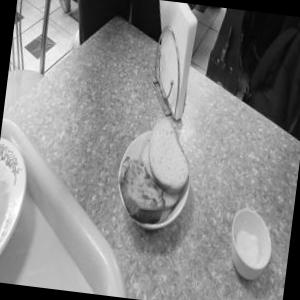bread: (130, 116, 200, 202)
cheese_sandwich: (100, 149, 172, 226)
